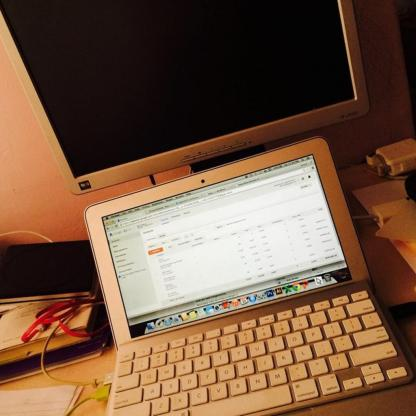board: (87, 150, 389, 416)
